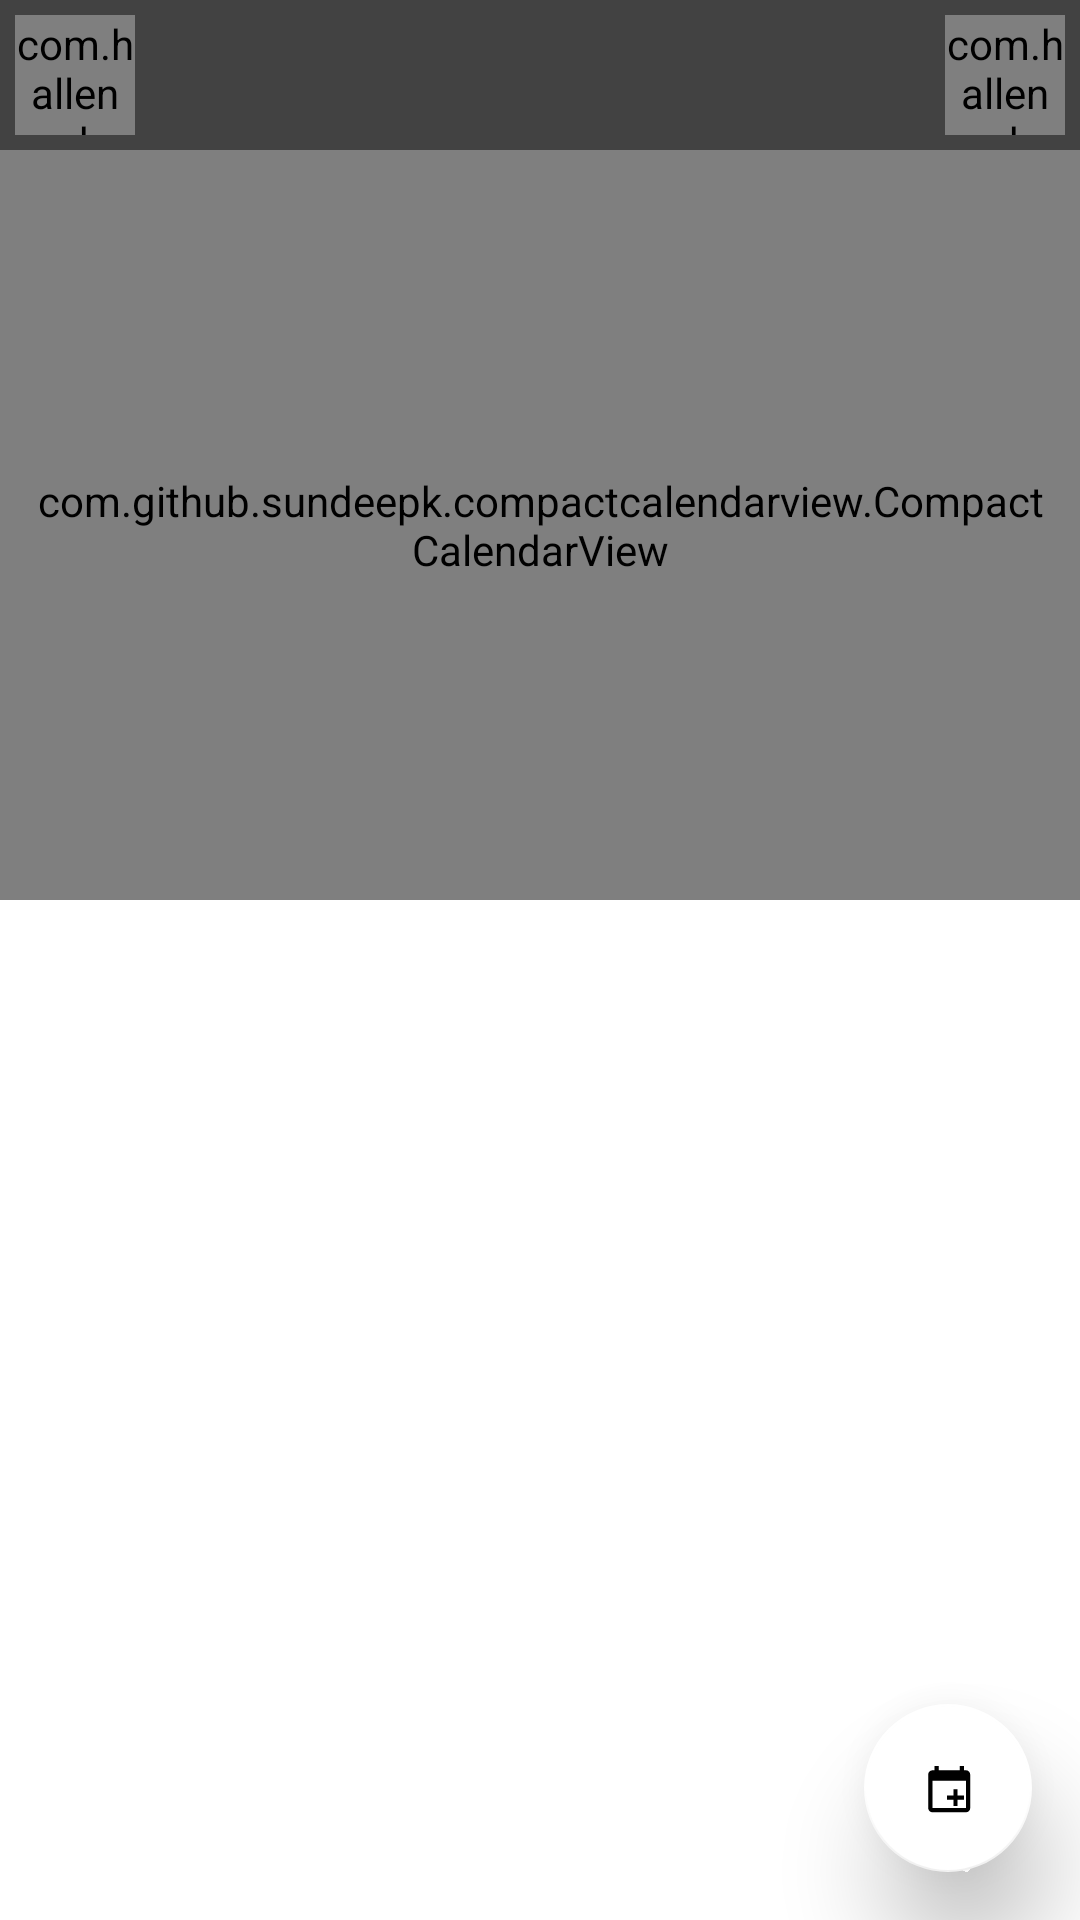

Icons on this 1080x1920 Android screen, each with the point to tap as point (x, y):
Nuevo Evento: point (959, 1819)
